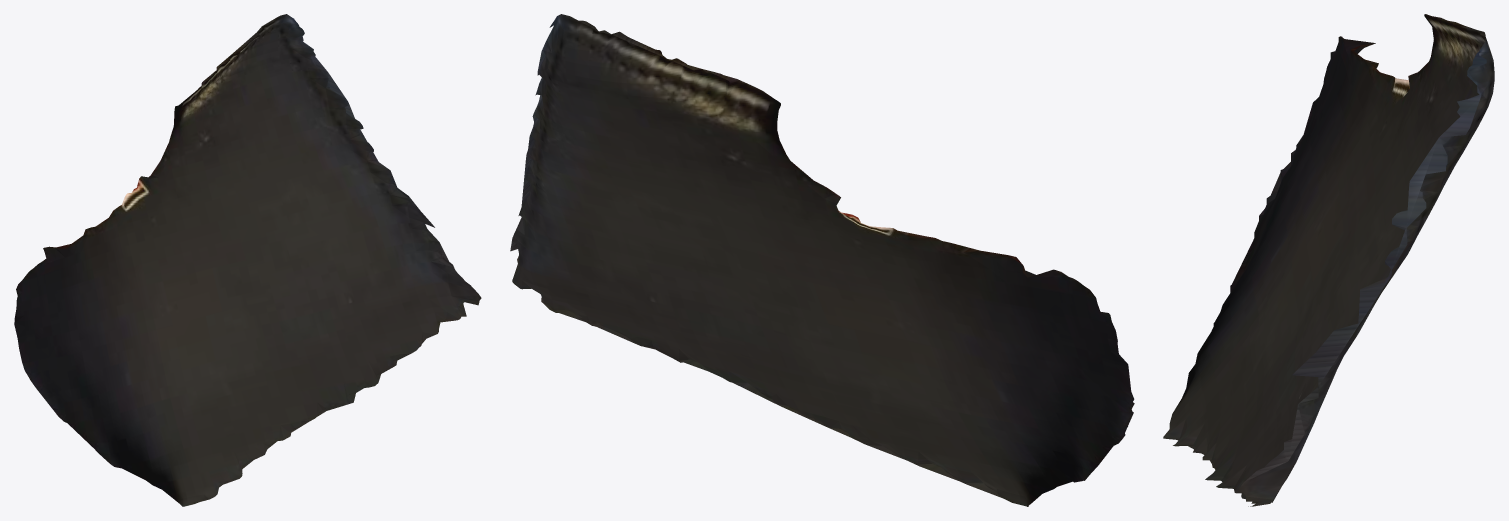
The model's file is observed-surface.glb.
The picture shows the model from 3 angles, left to right: view 1: azimuth 30°, elevation 25°; view 2: azimuth 150°, elevation 25°; view 3: azimuth 270°, elevation 25°; orthographic projection. The views are drawn at different scales.
Parts seen in each view (by area): view 1: geometry_0; view 2: geometry_0; view 3: geometry_0.
Boxes of the visible parts, x1,y1,x2,y2 form: geometry_0: [14, 14, 481, 506]; geometry_0: [510, 14, 1134, 506]; geometry_0: [1163, 14, 1494, 506].
Bounding box in the file's own units: 0.5874 × 0.4637 × 0.2607.
1 material, 1 textured.
